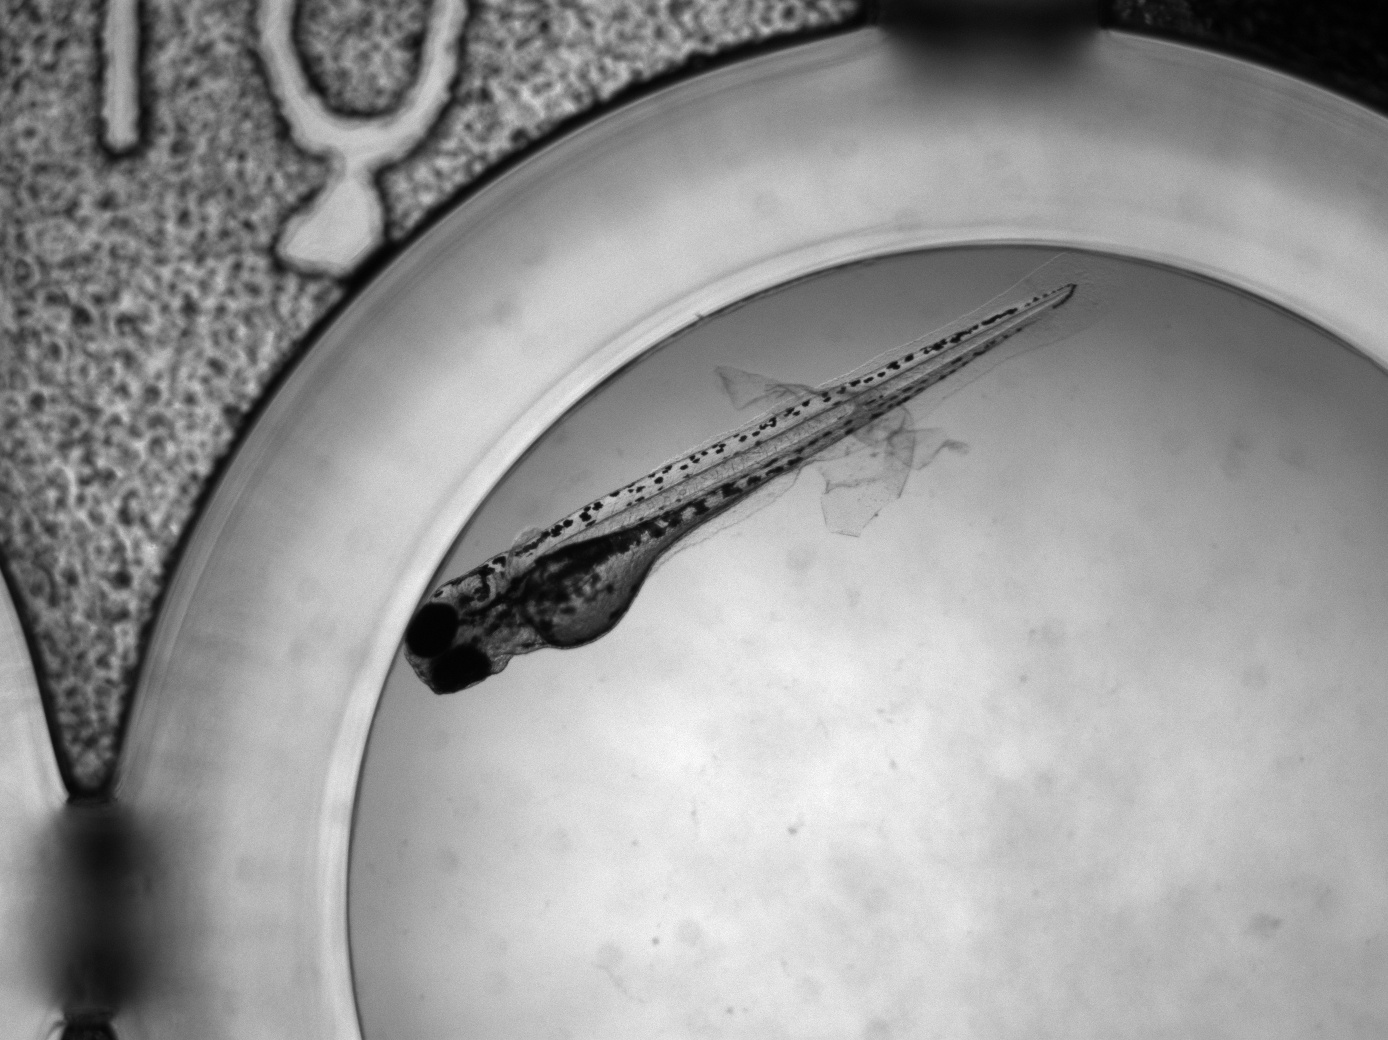debris: (717, 357, 917, 537)
embryo: (402, 281, 1078, 694)
eye: (431, 645, 491, 693), (406, 602, 458, 657)
yolksac: (521, 532, 649, 650)
